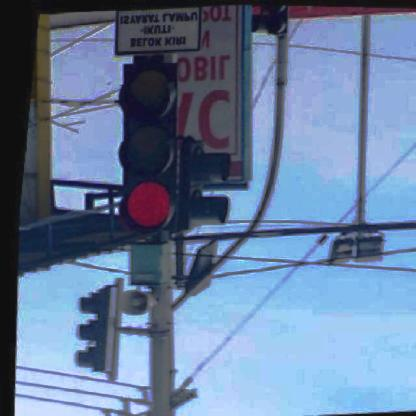Traffic Light -Red-: (102, 62, 184, 236)
